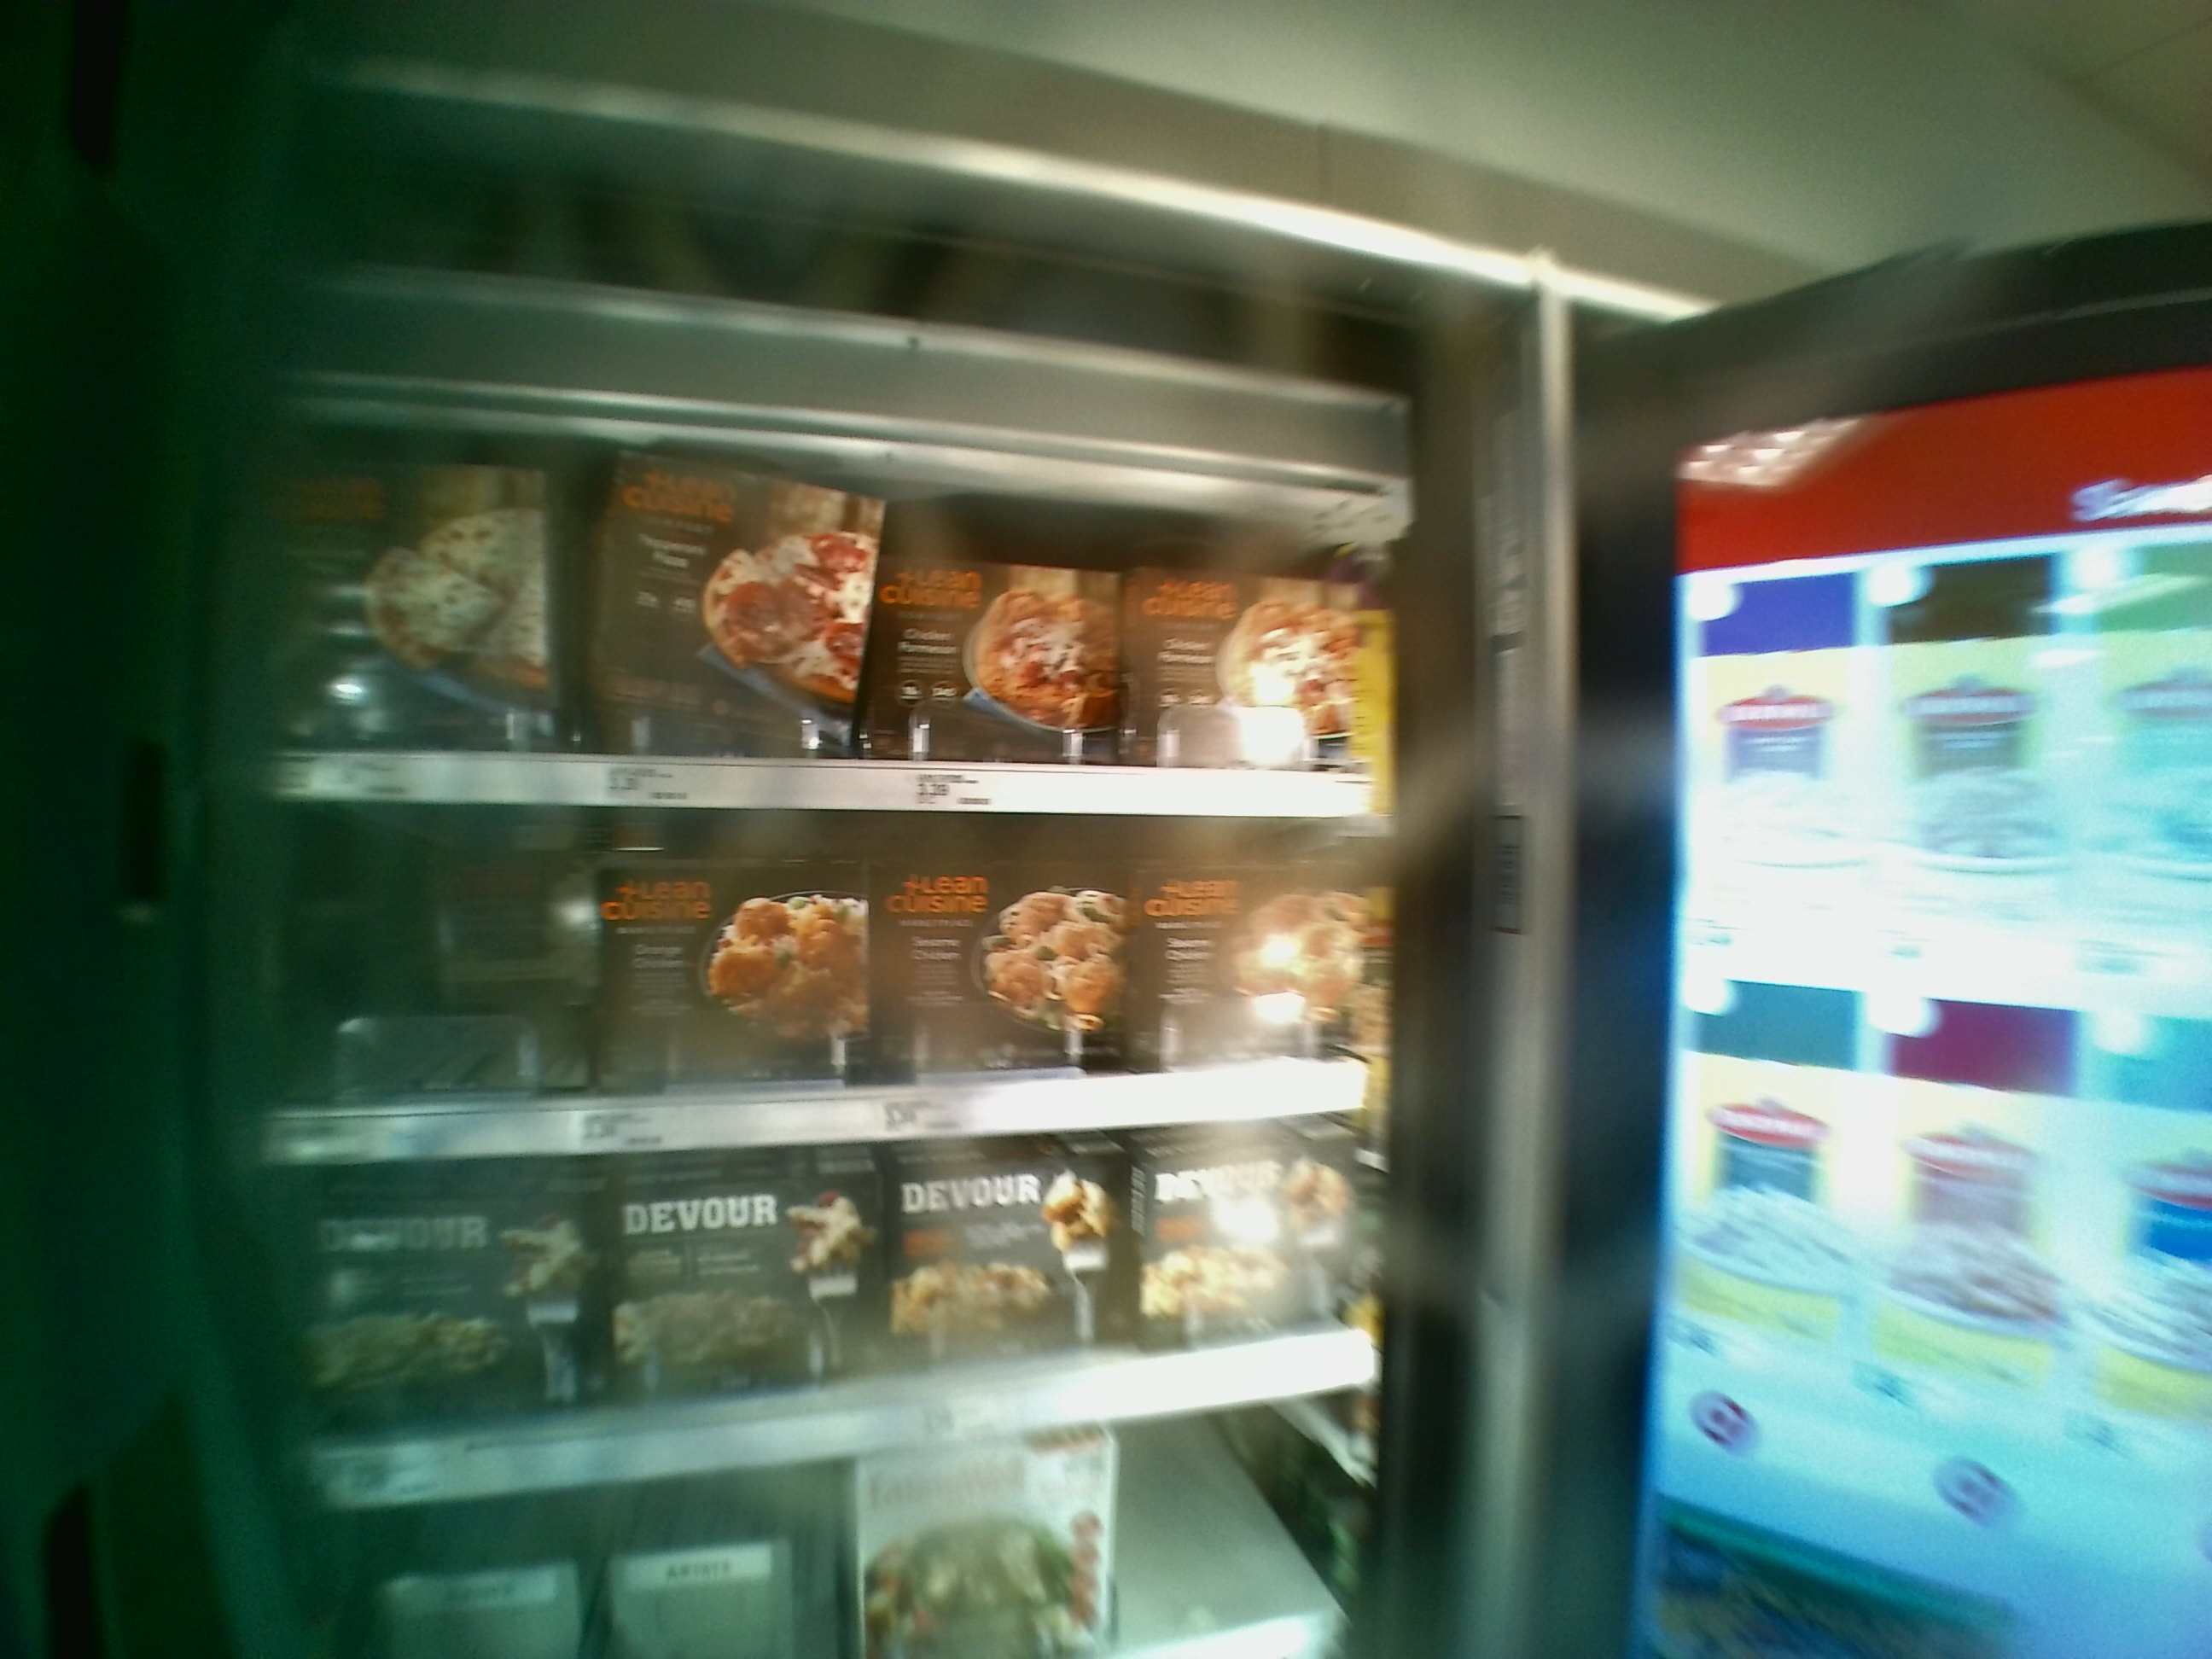shelf: (280, 382, 1393, 824), (254, 793, 1425, 1168)
